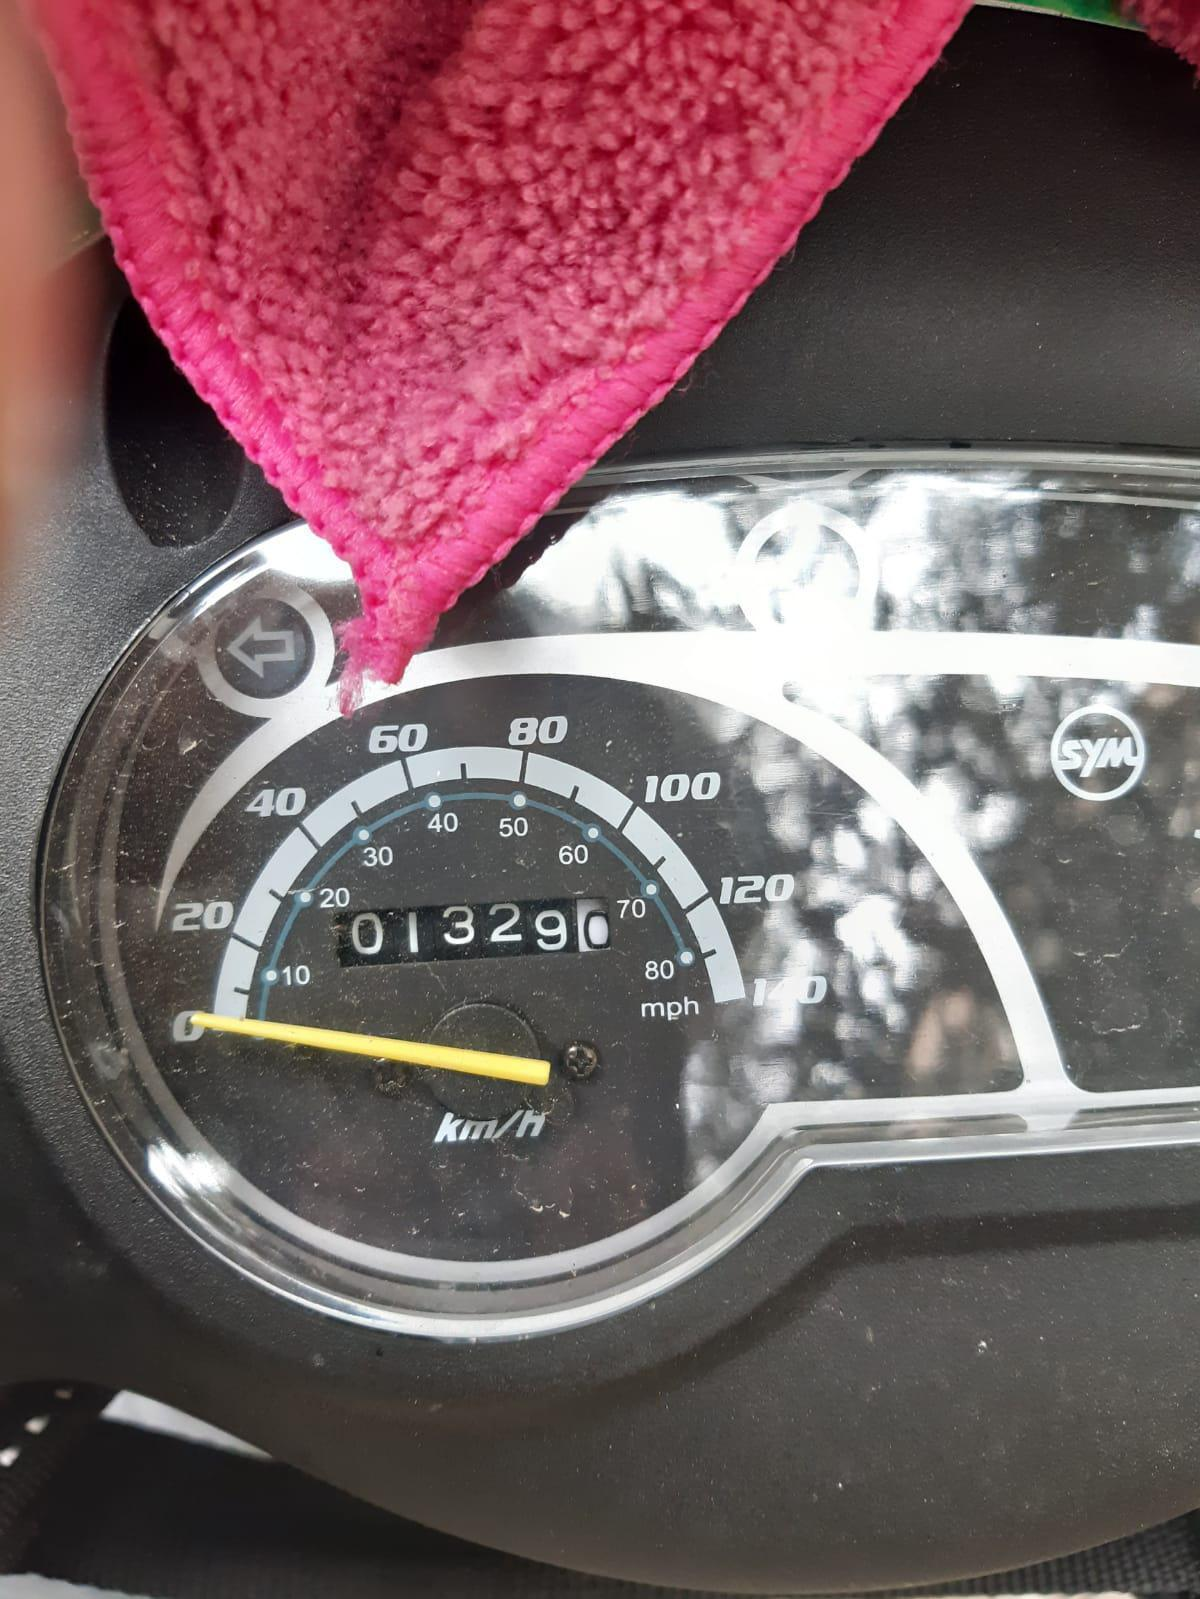0: (350, 908, 384, 956), (581, 907, 616, 953)
1: (400, 906, 425, 956)
2: (484, 903, 524, 946)
3: (440, 900, 474, 949)
9: (532, 903, 571, 954)
odometer: (335, 900, 621, 964)
